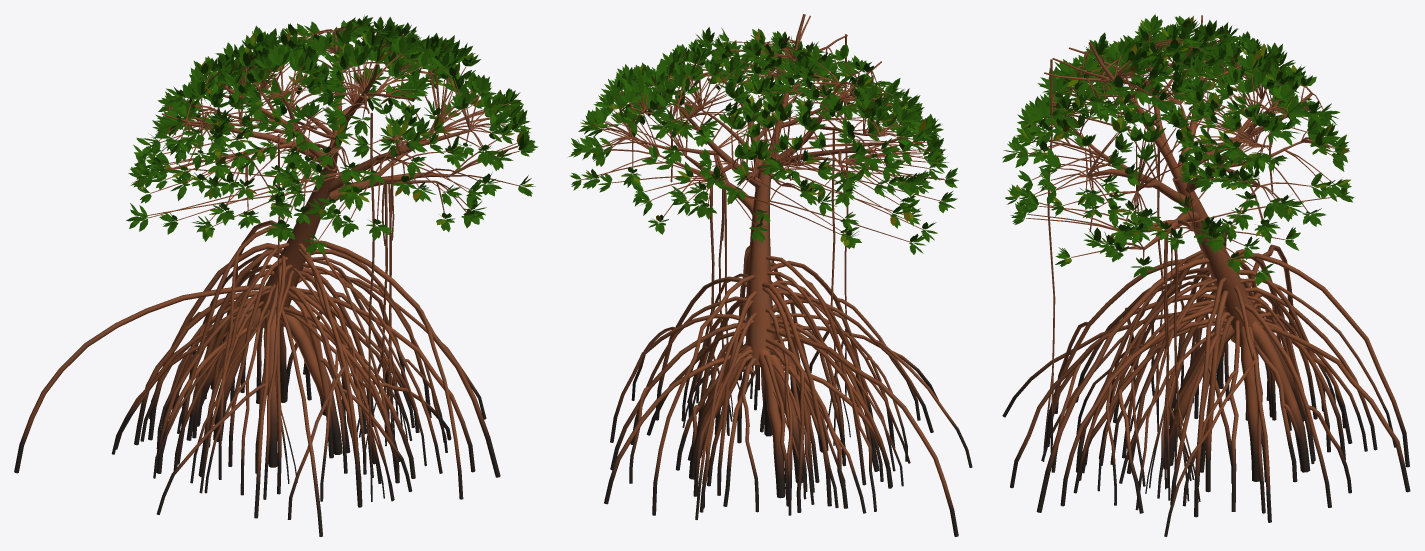
Rendered from RedMangrove_14_MidRed.fbx.
3 renders of one model, left to right at view 1: azimuth 30°, elevation 25°; view 2: azimuth 150°, elevation 25°; view 3: azimuth 270°, elevation 25°, orthographic. The views are drawn at different scales.
Parts seen in each view (by area): view 1: RedMangrove_14_MidRed_LOD0; view 2: RedMangrove_14_MidRed_LOD0; view 3: RedMangrove_14_MidRed_LOD0.
Part boxes in pixels (<box>): RedMangrove_14_MidRed_LOD0: <box>14,15,538,536</box>; RedMangrove_14_MidRed_LOD0: <box>568,14,972,536</box>; RedMangrove_14_MidRed_LOD0: <box>1002,14,1410,536</box>.
Size of what is drawn, in the model's own units: 6.29 by 5.63 by 4.92.
